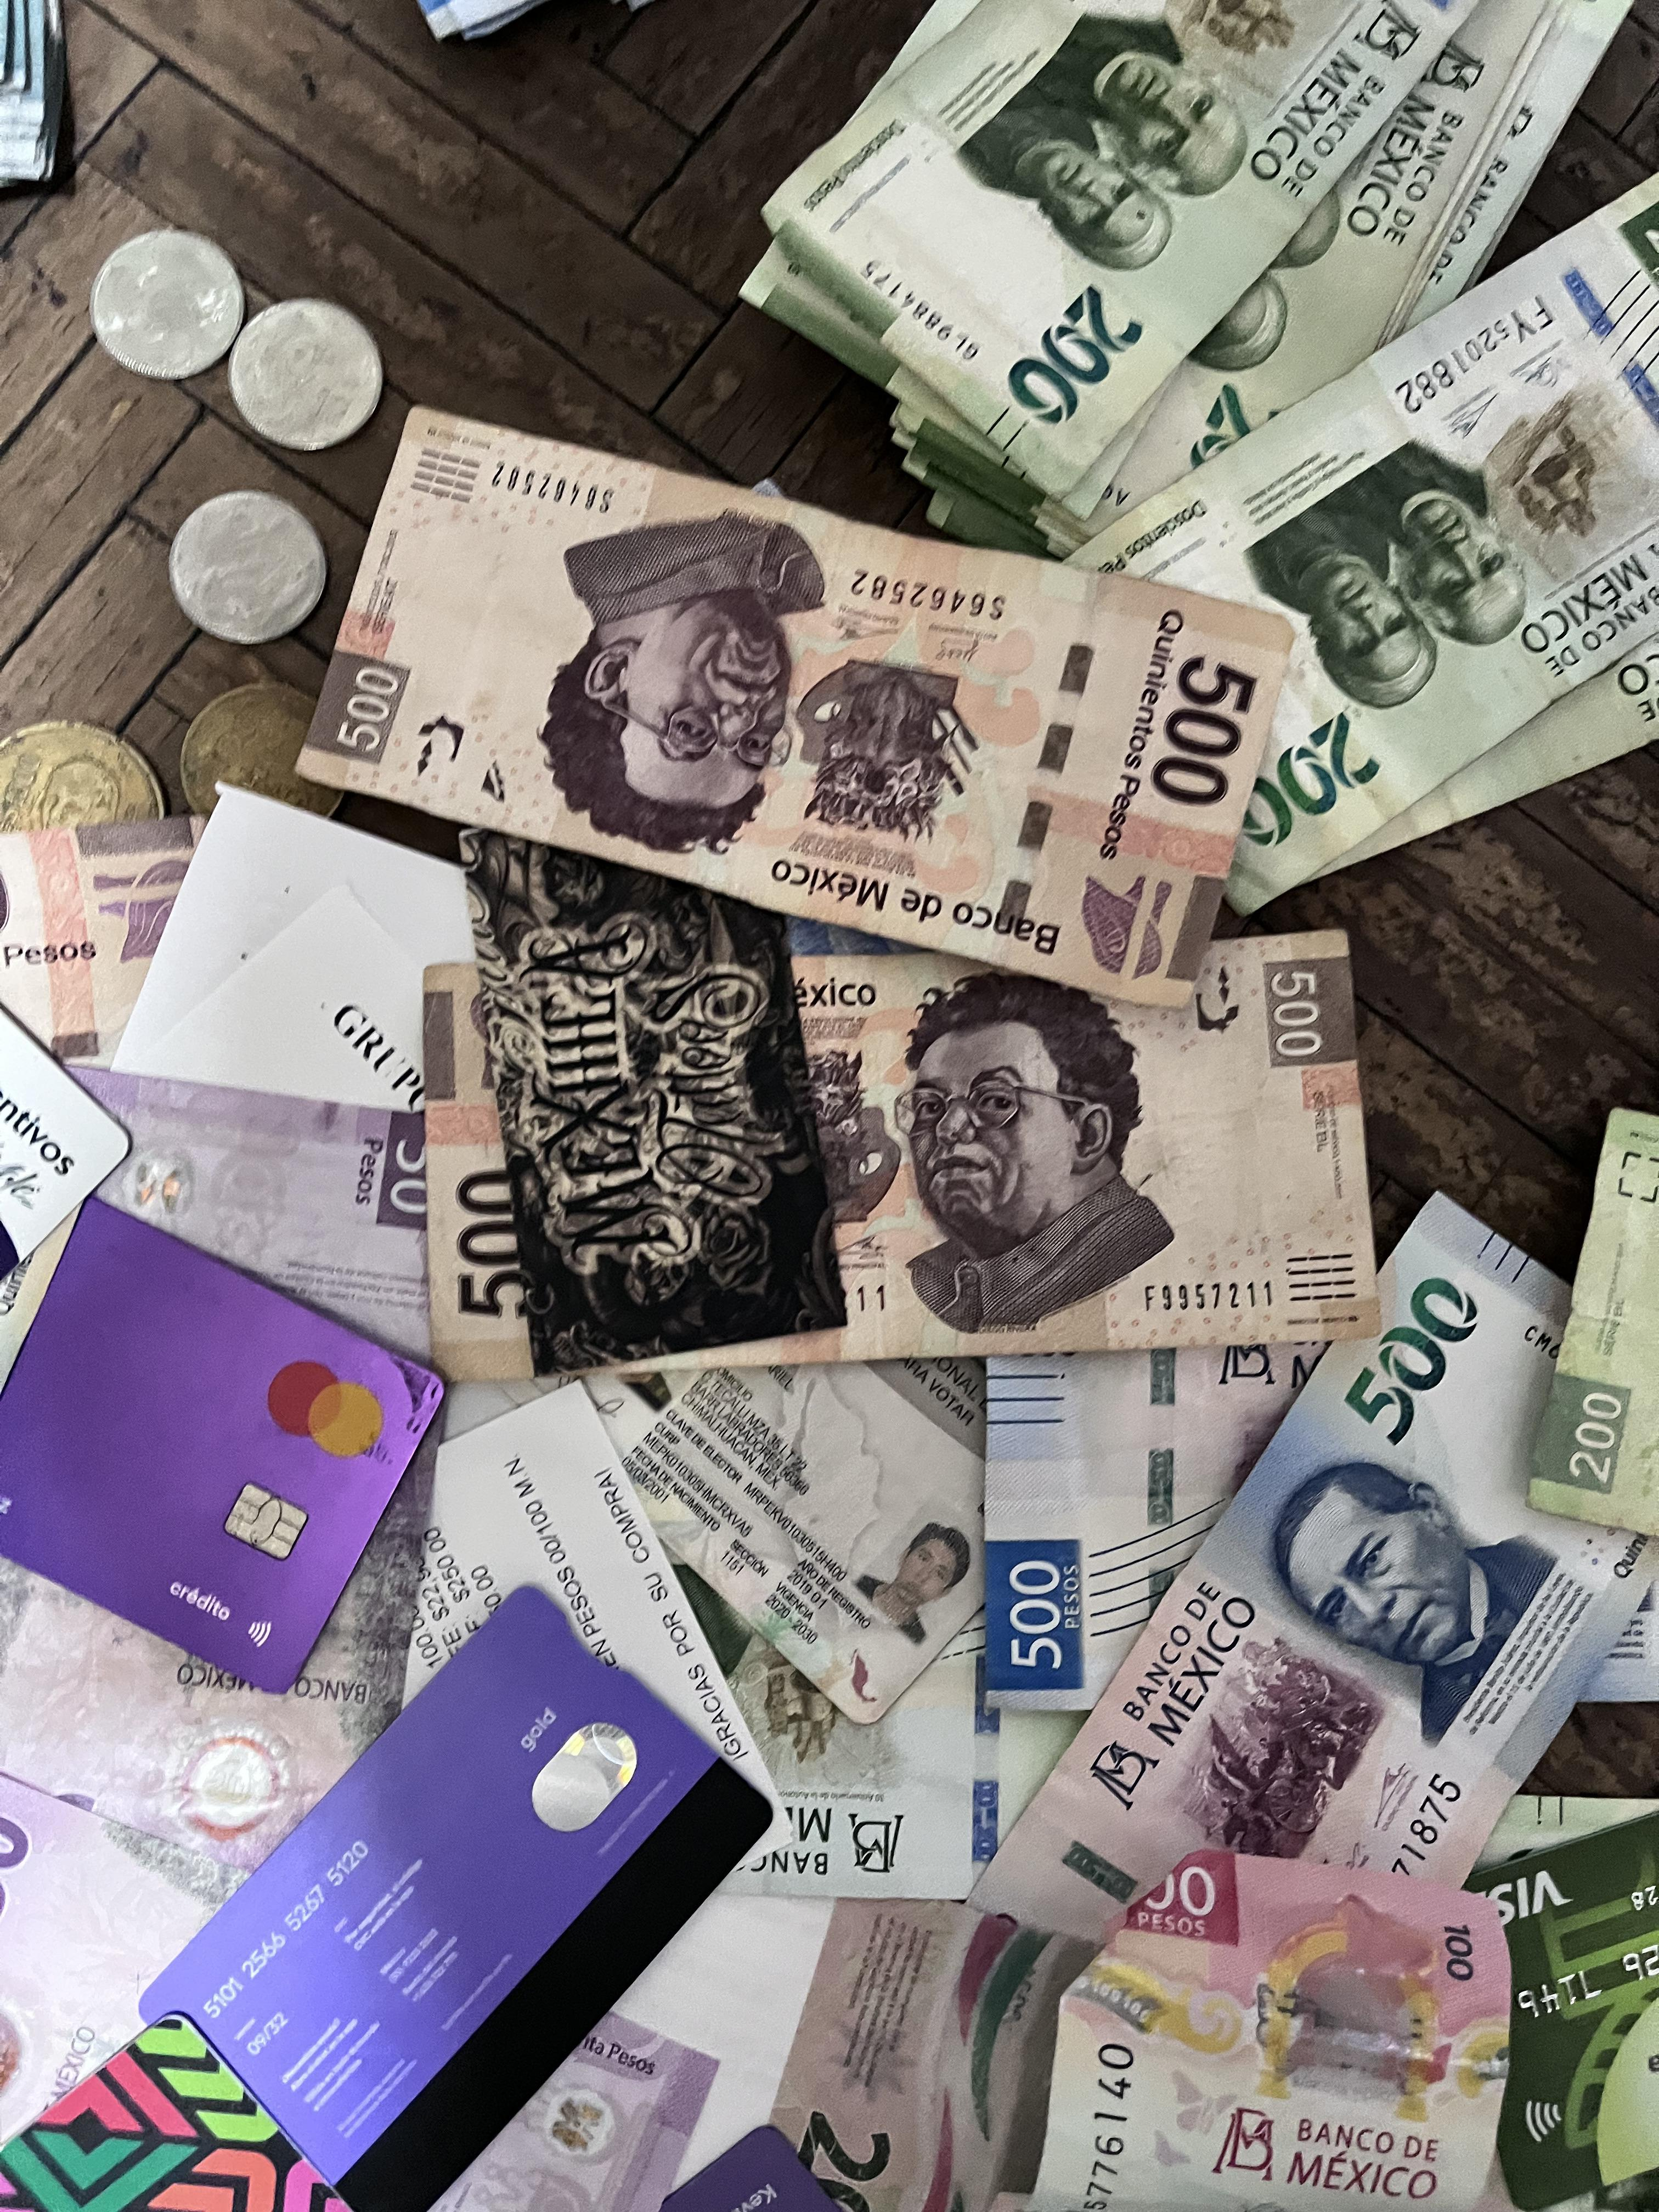100: (1011, 1838, 1511, 2212)
20: (749, 1871, 1136, 2212)
200: (1002, 174, 1659, 951), (687, 0, 1565, 552), (1480, 1071, 1659, 1554)
50: (5, 1045, 497, 1850), (0, 1764, 744, 2212)
500: (286, 378, 1279, 1043), (368, 914, 1412, 1367), (0, 789, 336, 1076)
500 nuevo: (967, 1186, 1659, 1972)
